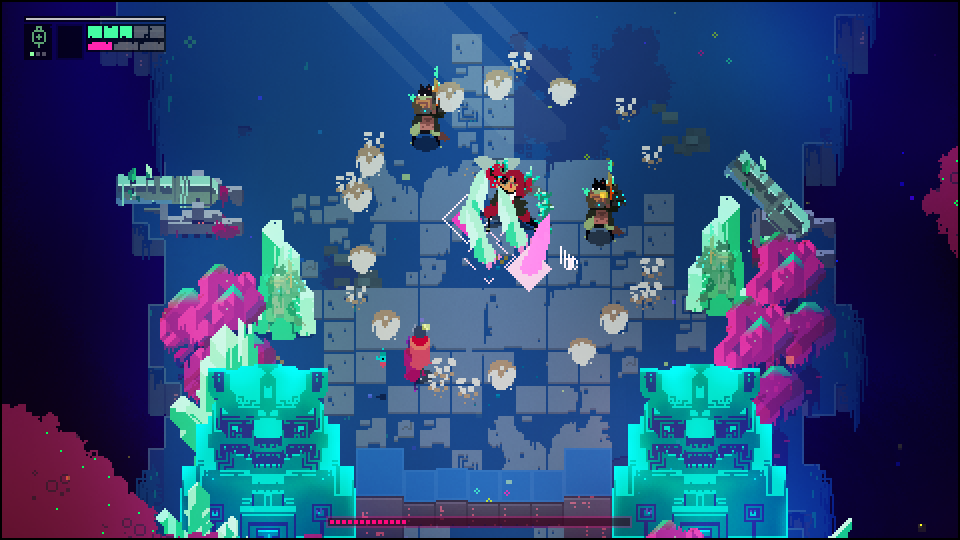hanged_crys: (446, 157, 490, 237), (512, 212, 554, 295)
hanged_man: (472, 155, 550, 235)
player: (405, 320, 433, 382)
